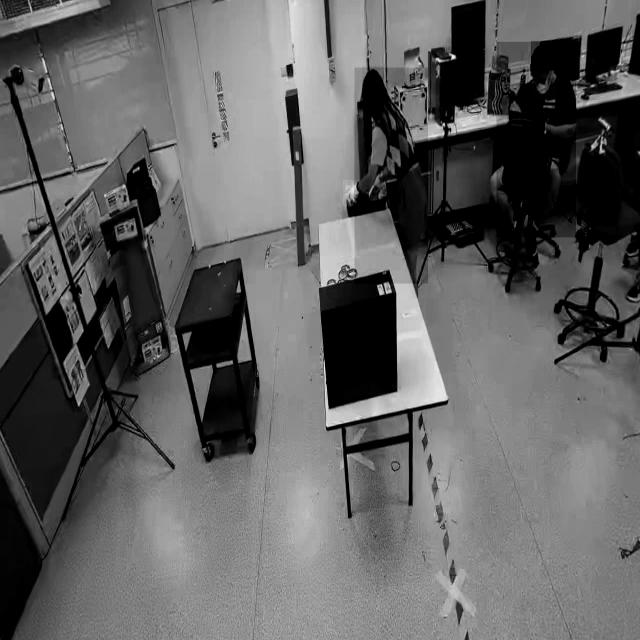face_mask: (531, 71, 555, 101)
hand_glove: (343, 180, 359, 207)
head_nohelmet: (530, 41, 556, 66), (362, 66, 384, 92)
person: (354, 68, 428, 284), (496, 42, 576, 238)
